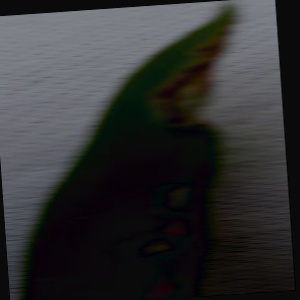Brown_Spot: (117, 230, 195, 292), (141, 159, 196, 226)
